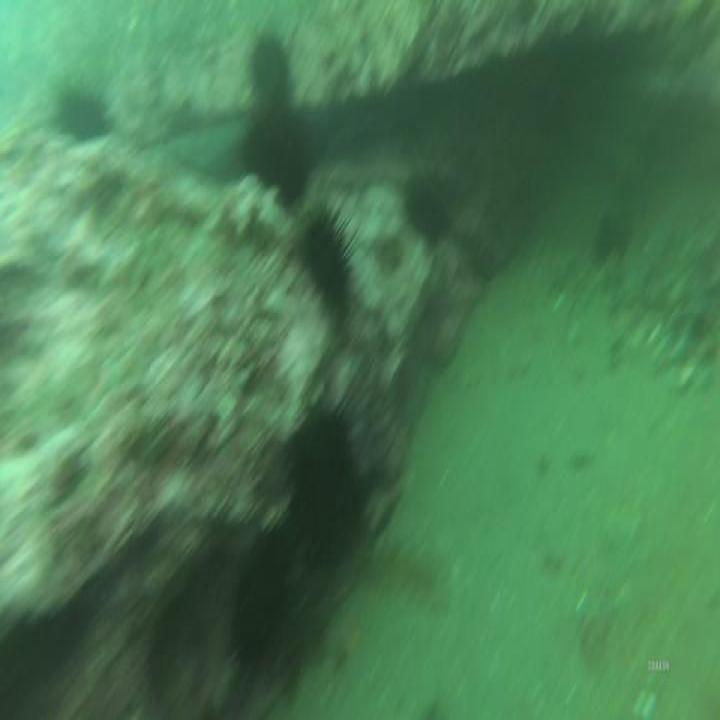echinus: (279, 382, 374, 572), (229, 524, 292, 665), (298, 194, 363, 322), (242, 110, 314, 203), (399, 170, 455, 253), (248, 34, 299, 121), (58, 77, 114, 148)
